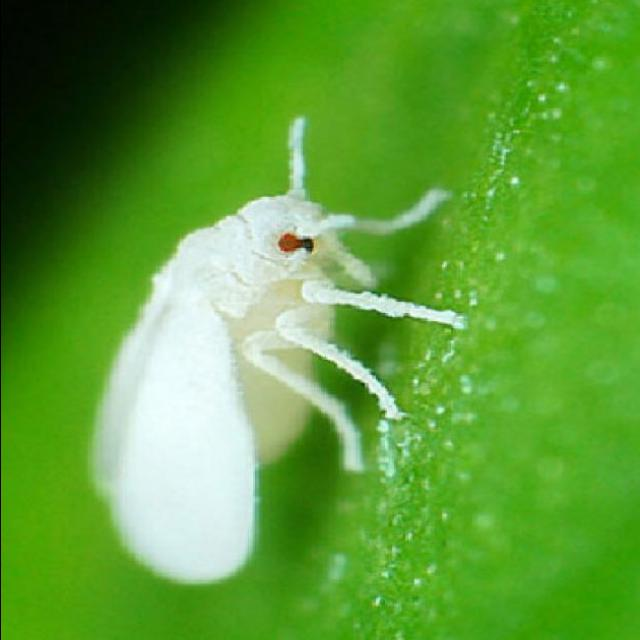Whitefly: (71, 106, 494, 598)
